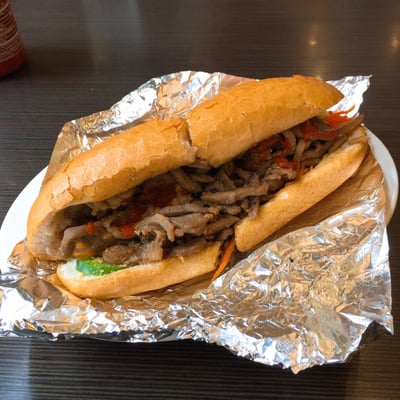soup: (21, 70, 390, 301)
